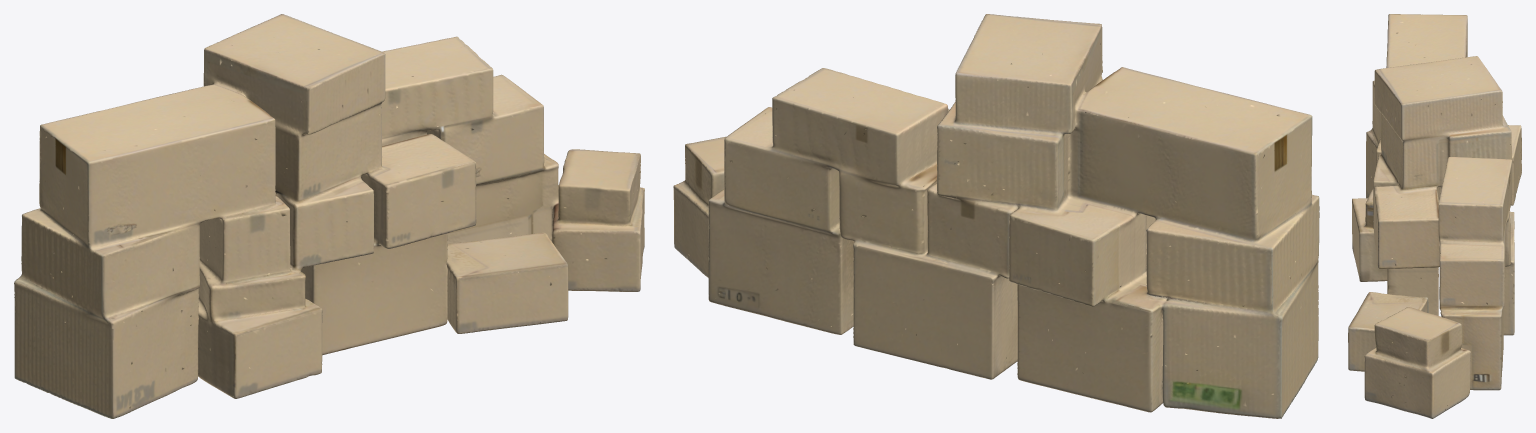
Rendered from cajas.glb.
The picture shows the model from 3 angles, left to right: view 1: azimuth 30°, elevation 25°; view 2: azimuth 150°, elevation 25°; view 3: azimuth 270°, elevation 25°; orthographic projection. The views are drawn at different scales.
Size of the model in its own units: 2.01 by 0.8806 by 0.6542.
1 material, 1 textured.
